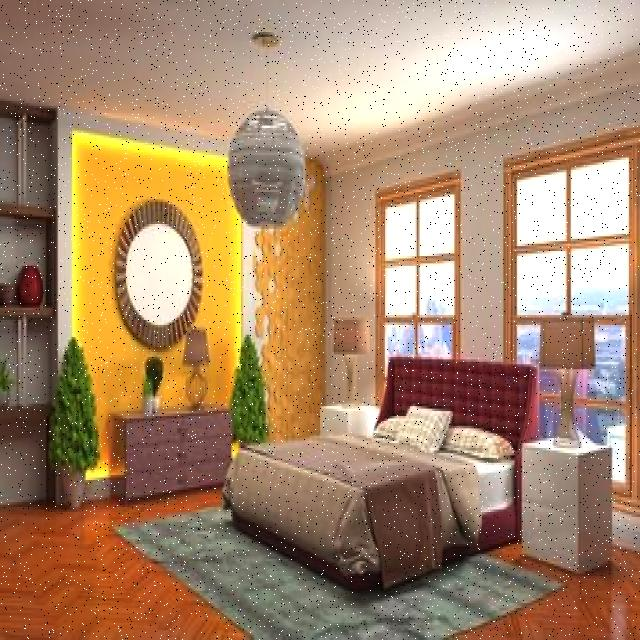bed: (230, 403, 522, 590)
